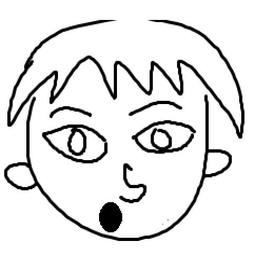ear: (200, 146, 238, 182), (4, 158, 39, 190)
eye: (39, 123, 110, 167), (130, 118, 198, 156)
eyebrow: (123, 97, 184, 118), (41, 102, 100, 118)
nose: (115, 158, 148, 205)
open_mouth: (97, 197, 124, 240)
